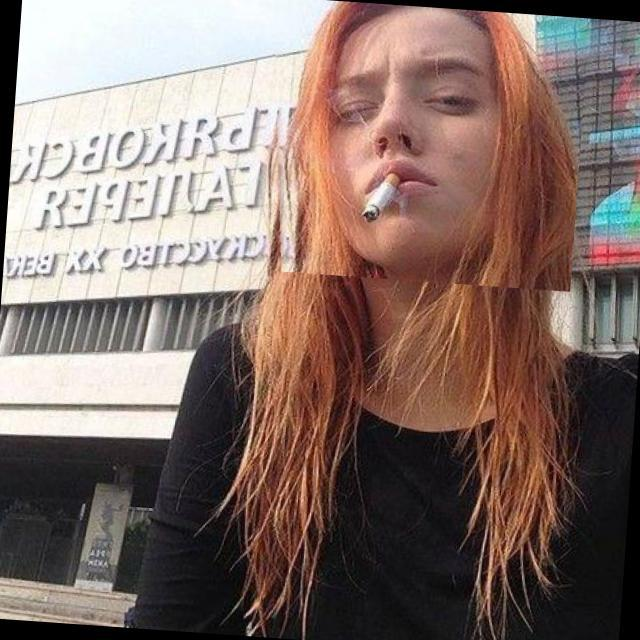cigarette: (336, 154, 387, 236)
